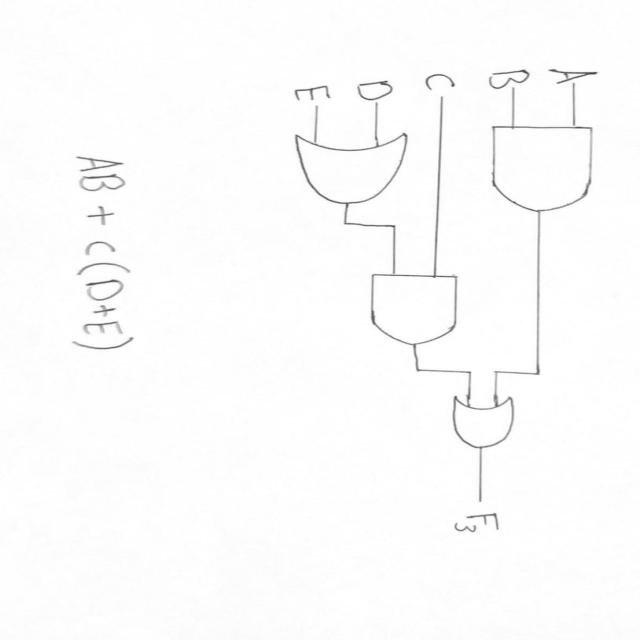AND: (481, 116, 620, 218), (346, 268, 477, 354)
OR: (277, 128, 419, 216), (432, 390, 540, 462)
